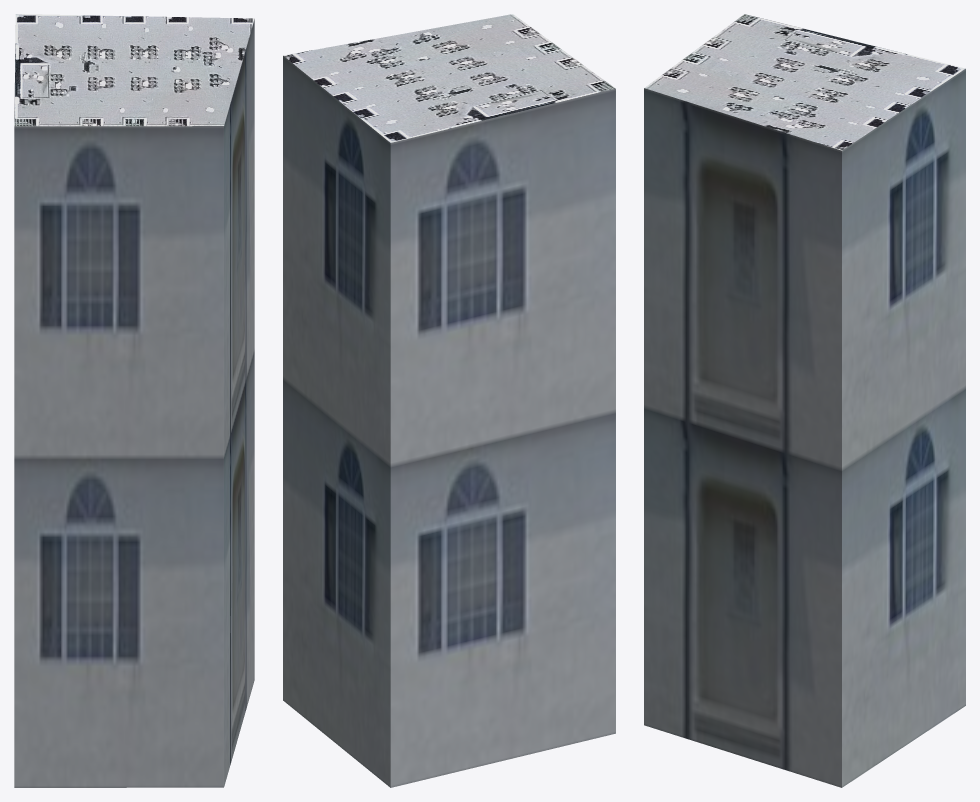
The model's file is ResTex__911.fbx.
The picture shows the model from 3 angles, left to right: view 1: azimuth 30°, elevation 25°; view 2: azimuth 150°, elevation 25°; view 3: azimuth 270°, elevation 25°; orthographic projection. The views are drawn at different scales.
Visible parts, largest first — view 1: CityEngineMaterial_17_m, CityEngineMaterial_4_m; view 2: CityEngineMaterial_17_m, CityEngineMaterial_4_m; view 3: CityEngineMaterial_17_m, CityEngineMaterial_4_m.
Part boxes in pixels (bbox=[...]): CityEngineMaterial_17_m: bbox=[14, 19, 254, 787]; CityEngineMaterial_4_m: bbox=[14, 14, 254, 126]; CityEngineMaterial_17_m: bbox=[283, 56, 615, 787]; CityEngineMaterial_4_m: bbox=[283, 14, 615, 142]; CityEngineMaterial_17_m: bbox=[644, 69, 965, 787]; CityEngineMaterial_4_m: bbox=[644, 14, 965, 150].
Size of the model in its own units: 2.76 by 6 by 2.74.
2 materials, 2 textured.
